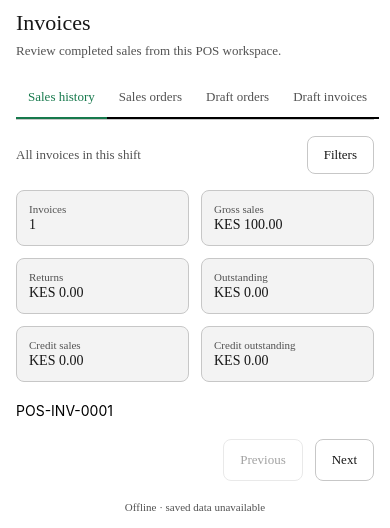
Scenario: PosInvoicesScreen › loads draft sales orders from the dedicated draft orders tab
This screenshot has width=390, height=528.
Click the tab "Draft orders" at (238, 98), box left=194, top=77, right=281, bottom=119
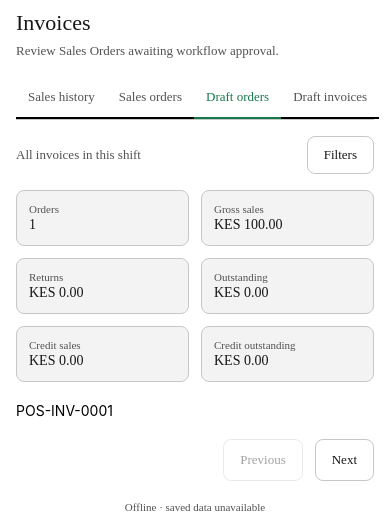
Result: the text "Review Sales Orders awaiting workflow approval." is shown at left=16, top=43, right=279, bottom=58
